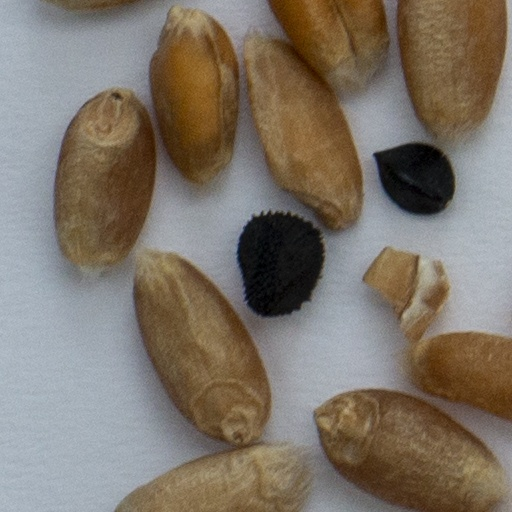Agrostemma-poly: (240, 212, 324, 313)
Fallopia-Convolvulus-poly: (376, 144, 451, 211)
Wheat-grain-damaged-poly: (364, 248, 448, 341)
